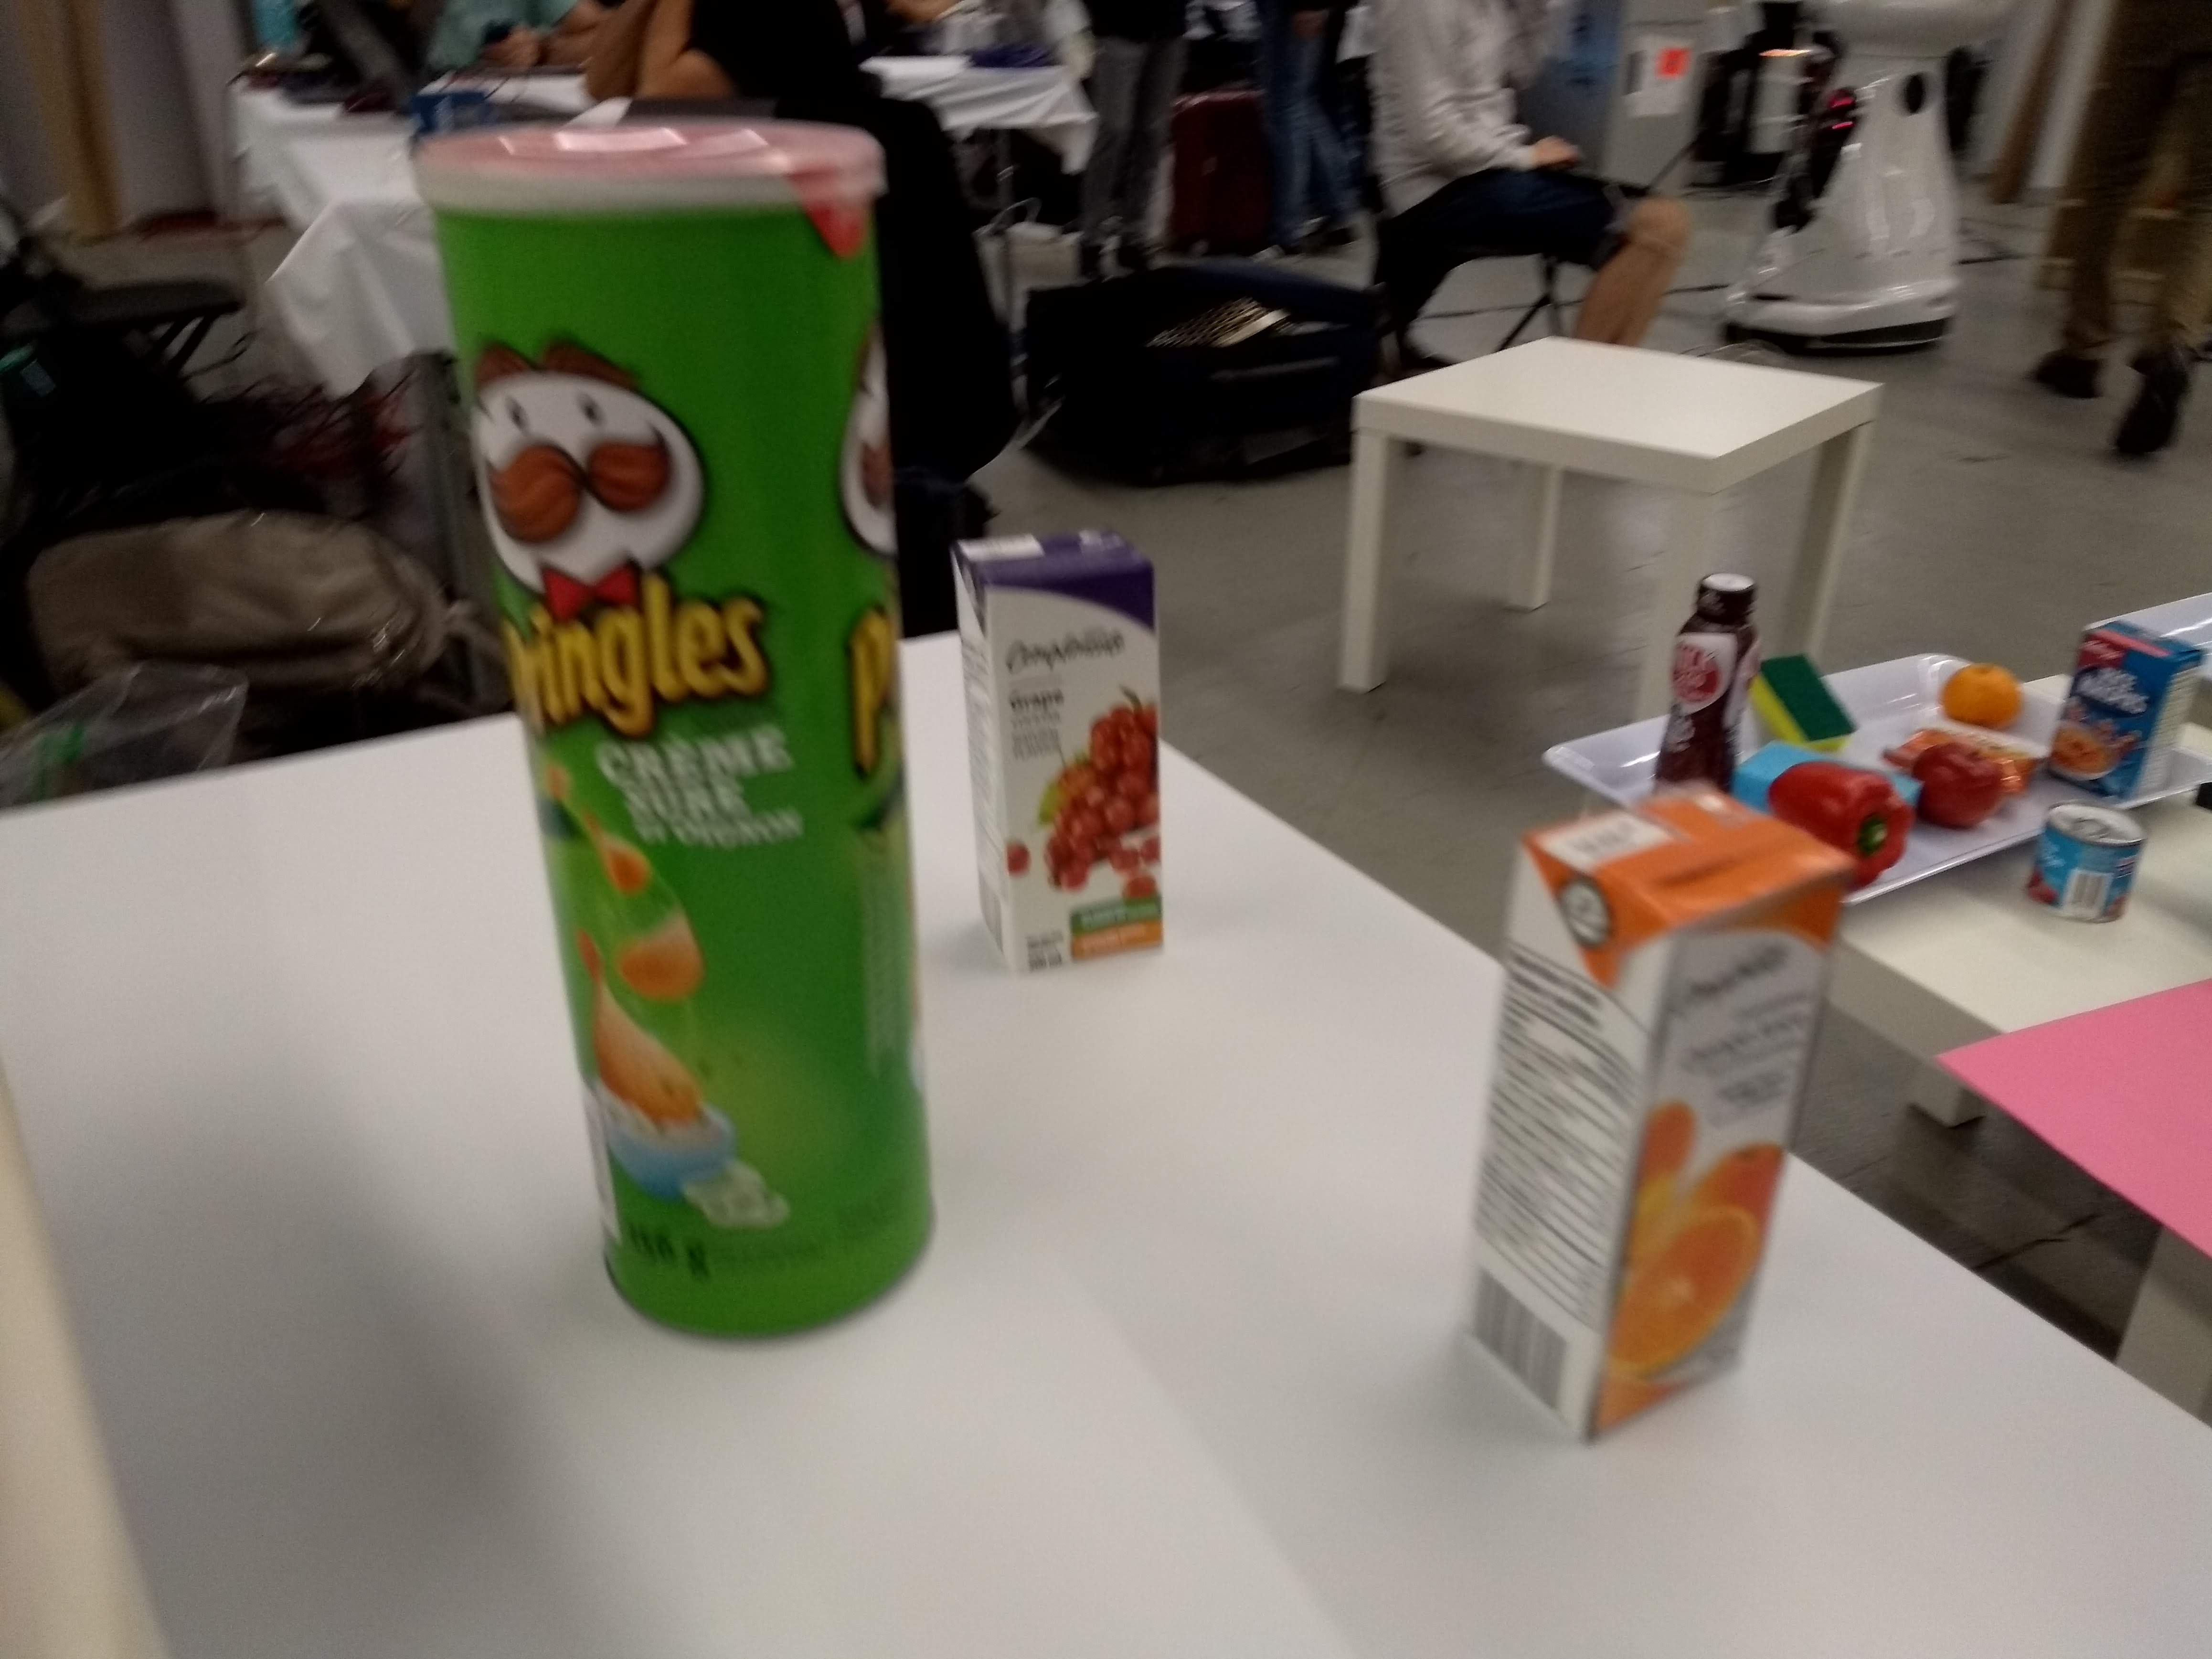apple: (1898, 737, 2008, 838)
cereal: (2036, 615, 2210, 809)
chocolate_drink: (1653, 565, 1764, 796)
grape_juice: (937, 525, 1184, 985)
orange: (1937, 659, 2027, 732)
orange_juice: (1425, 756, 1858, 1453)
pringles: (399, 103, 961, 1354)
sausages: (2027, 798, 2155, 934)
scrubby: (1749, 650, 1864, 748)
